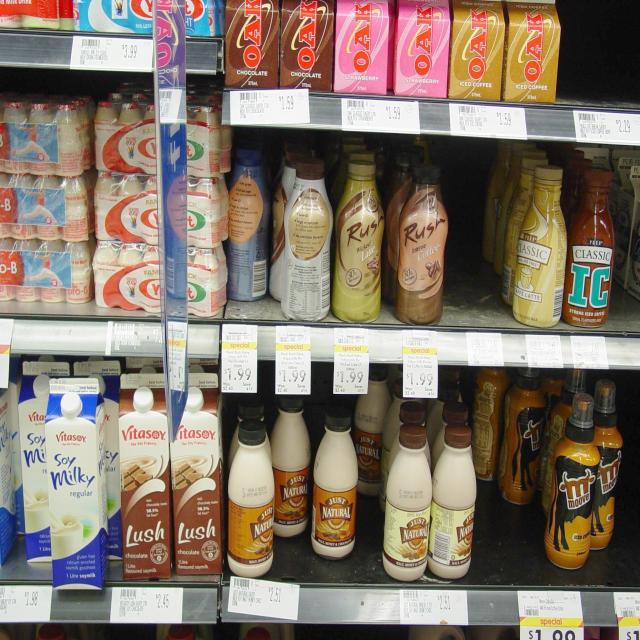empty_space: (454, 166, 498, 318), (569, 12, 639, 92)
